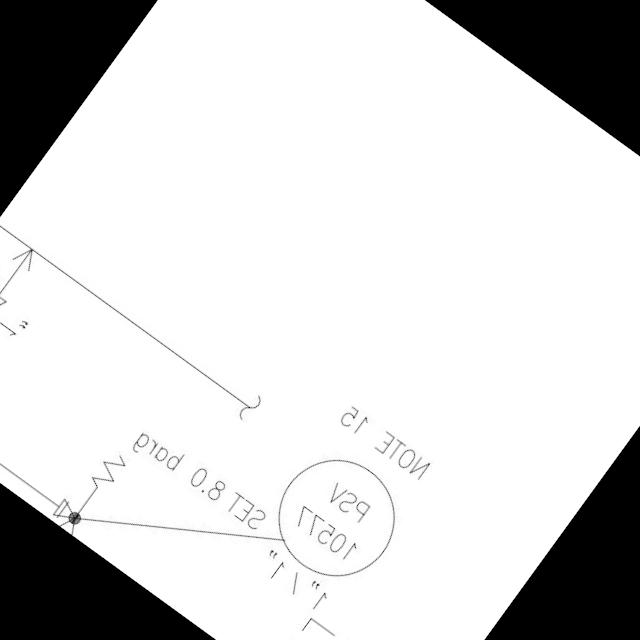GV: (0, 282, 12, 341)
RPV: (38, 426, 137, 538)
